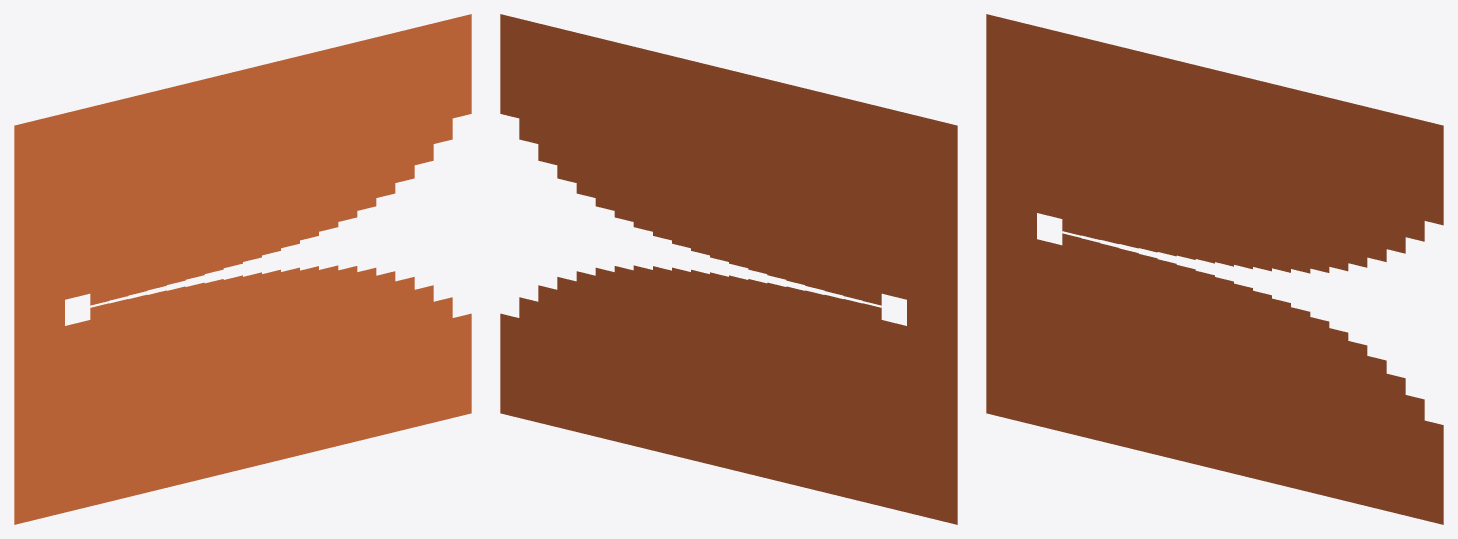
File: ant_bottom.obj
3 renders of one model, left to right at view 1: azimuth 30°, elevation 25°; view 2: azimuth 150°, elevation 25°; view 3: azimuth 330°, elevation 25°, orthographic.
Size of the model in its own units: 44.94 by 37.47 by 0.
